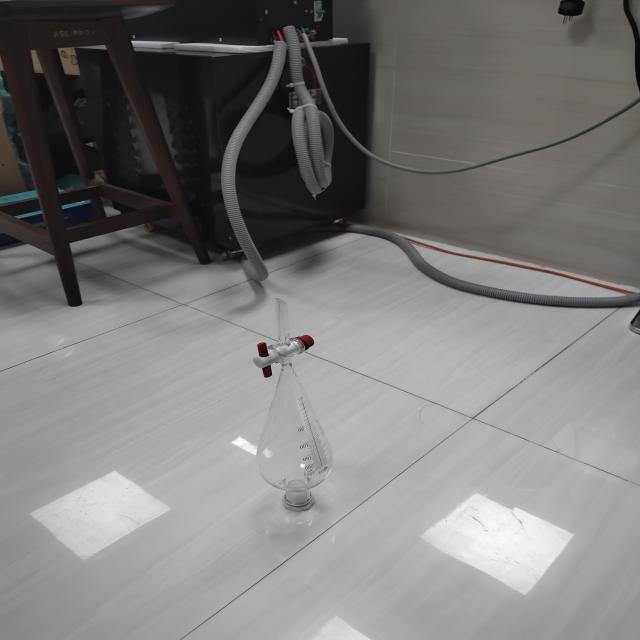Separating_Funnel: (217, 282, 372, 548)
